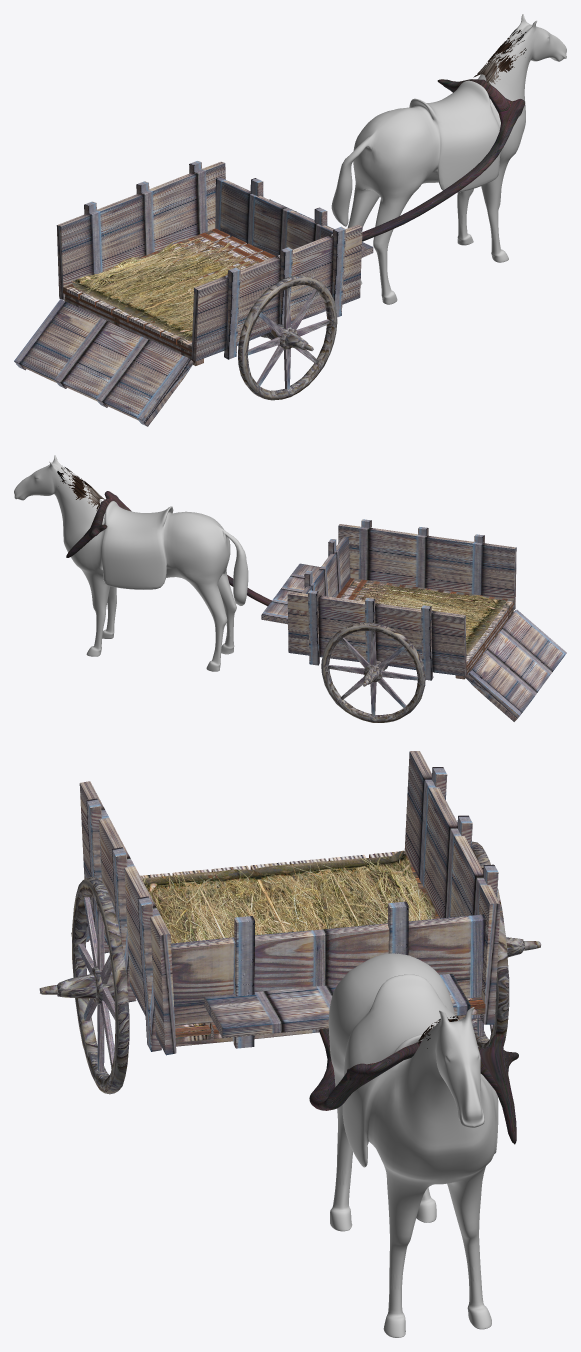
The model's file is horseandcar2.FBX.
3 views of the same model, one above another, from view 1: azimuth 30°, elevation 25°; view 2: azimuth 150°, elevation 25°; view 3: azimuth 270°, elevation 25° (orthographic). The views are drawn at different scales.
Parts seen in each view (by area): view 1: car2, horse2; view 2: car2, horse2; view 3: car2, horse2.
Part boxes in pixels (box(x1,y1,x2,y2)): car2: box(14, 79, 524, 426); horse2: box(331, 14, 566, 304); car2: box(66, 491, 566, 722); horse2: box(14, 455, 248, 671); car2: box(39, 751, 541, 1144); horse2: box(328, 953, 498, 1337).
Bounding box in the file's own units: 11.4 × 4.09 × 5.14.
